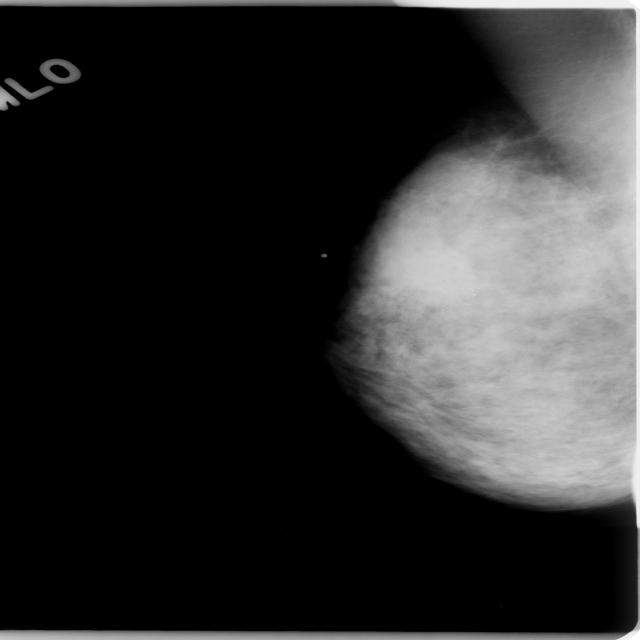normal: (317, 104, 640, 515)
